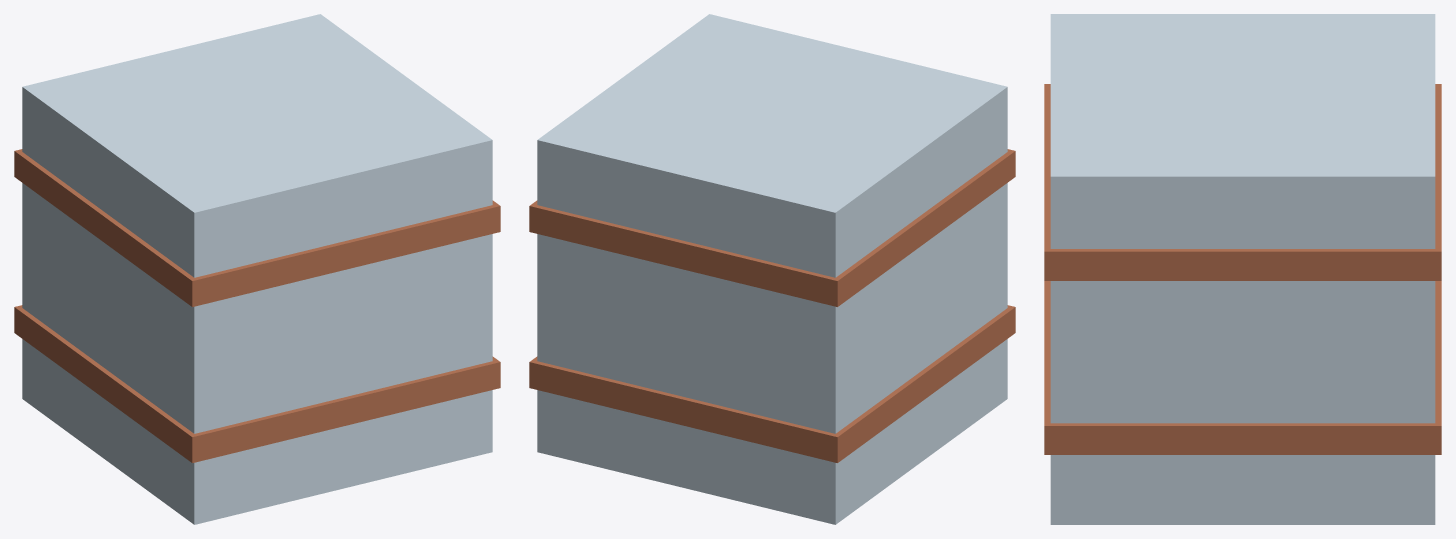
File: prop.crate.glb
3 renders of one model, left to right at view 1: azimuth 30°, elevation 25°; view 2: azimuth 150°, elevation 25°; view 3: azimuth 270°, elevation 25°, orthographic. The views are drawn at different scales.
Visible parts, largest first — view 1: prop.crate; view 2: prop.crate; view 3: prop.crate.
Part boxes in pixels (<box>): prop.crate: <box>14,14,500,524</box>; prop.crate: <box>529,14,1015,524</box>; prop.crate: <box>1044,14,1441,524</box>.
Bounding box in the file's own units: 0.62 × 0.6 × 0.62.
